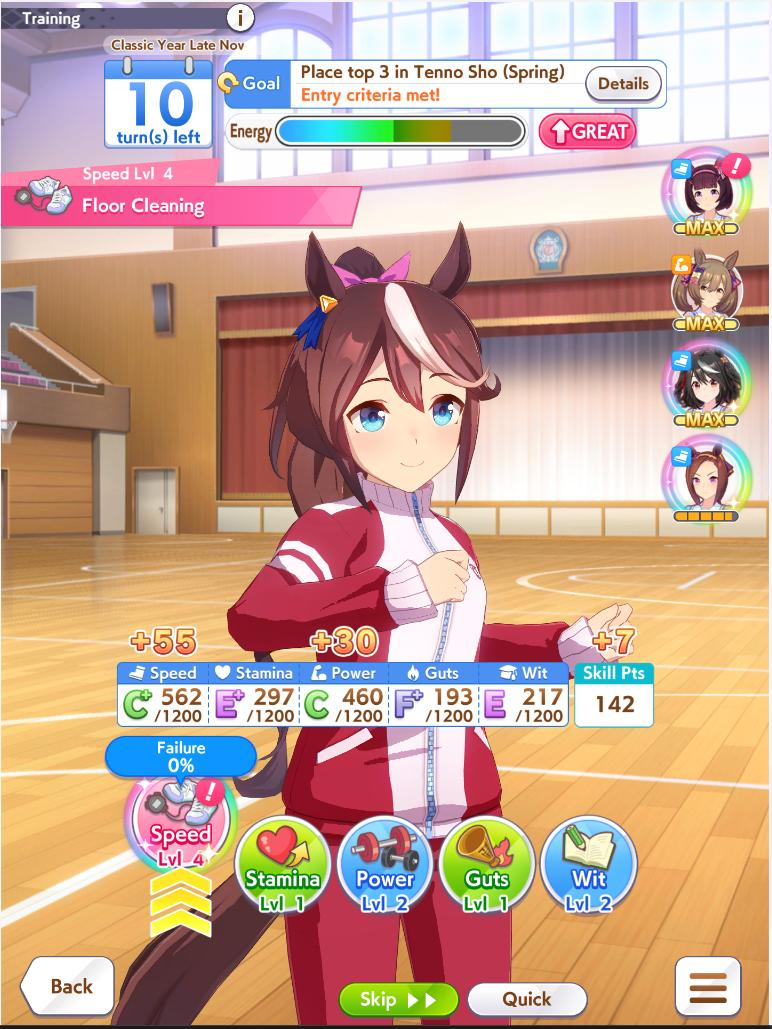Energy: (225, 112, 532, 157)
Great: (531, 112, 642, 153)
back: (19, 952, 116, 1018)
fail: (101, 734, 257, 779)
goal: (216, 58, 671, 115)
guts: (445, 818, 531, 913)
power: (341, 820, 428, 904)
skip_green: (340, 978, 461, 1018)
speed: (136, 776, 229, 869)
stamina: (241, 820, 321, 912)
turns: (98, 53, 217, 152)
wit: (548, 823, 632, 907)
